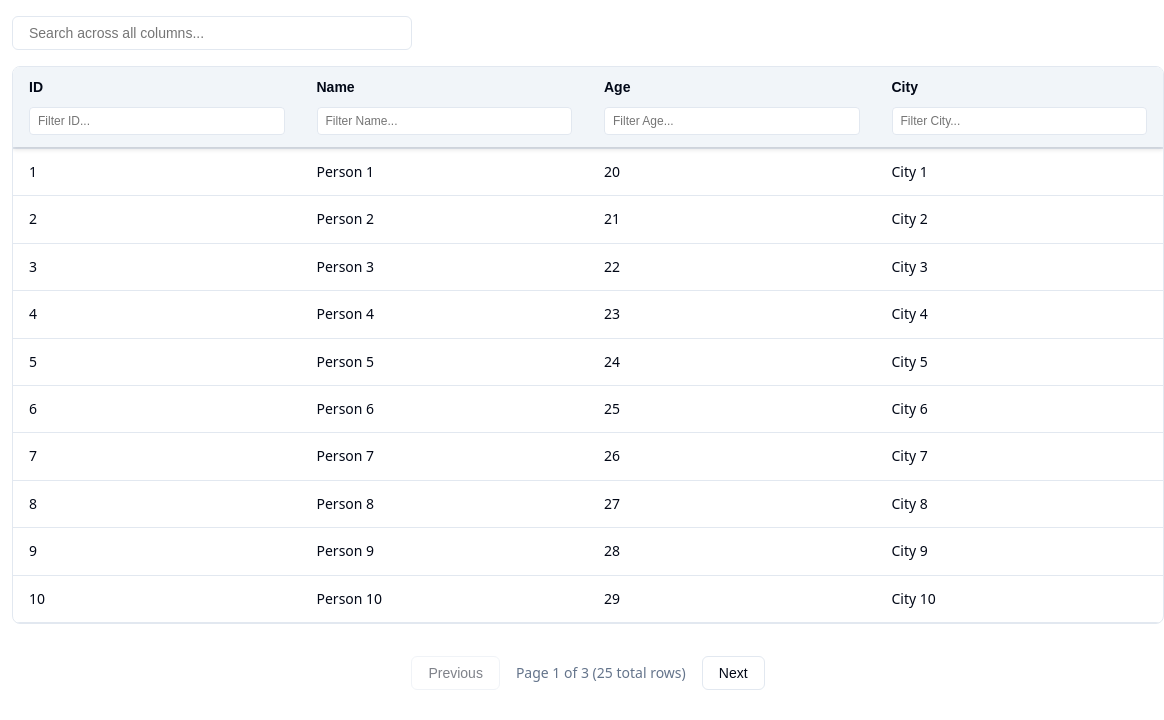
Test case: InteractiveTable › Pagination › should navigate to next page
Click the button "Next" at (733, 673), box x1=702 y1=656 x2=765 y2=690
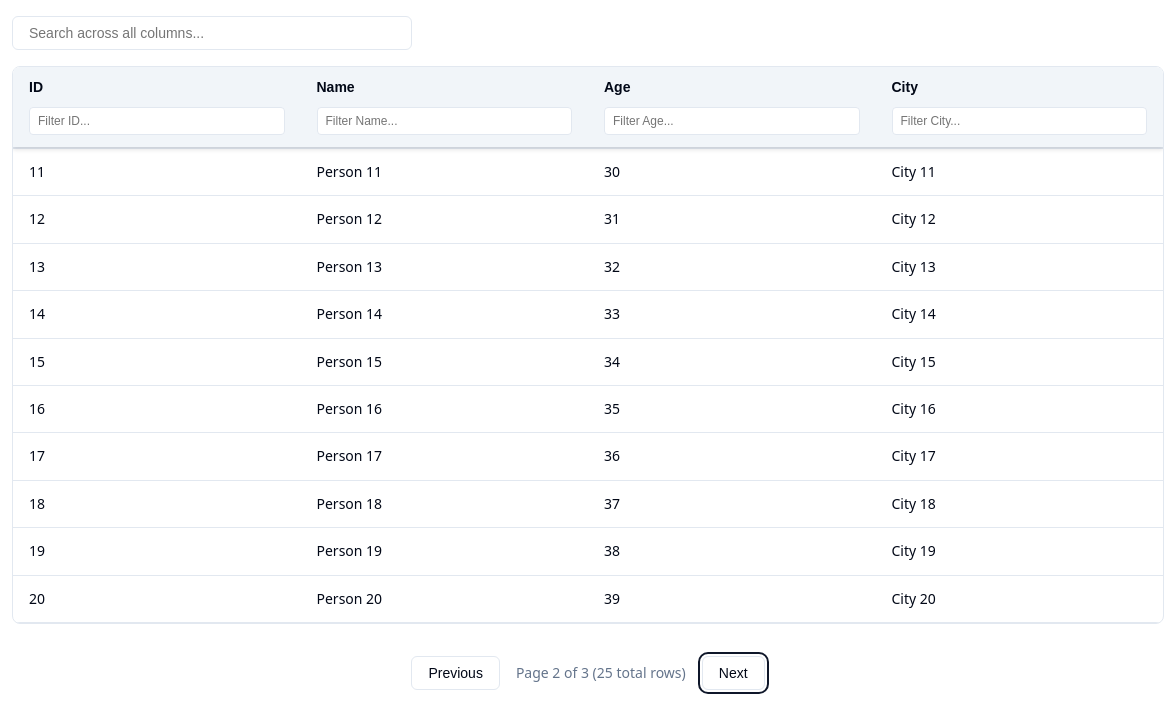
Check: the text "Person 11" is shown, box x1=300 y1=148 x2=588 y2=196
Check: the text "Person 20" is shown, box x1=300 y1=575 x2=588 y2=622
